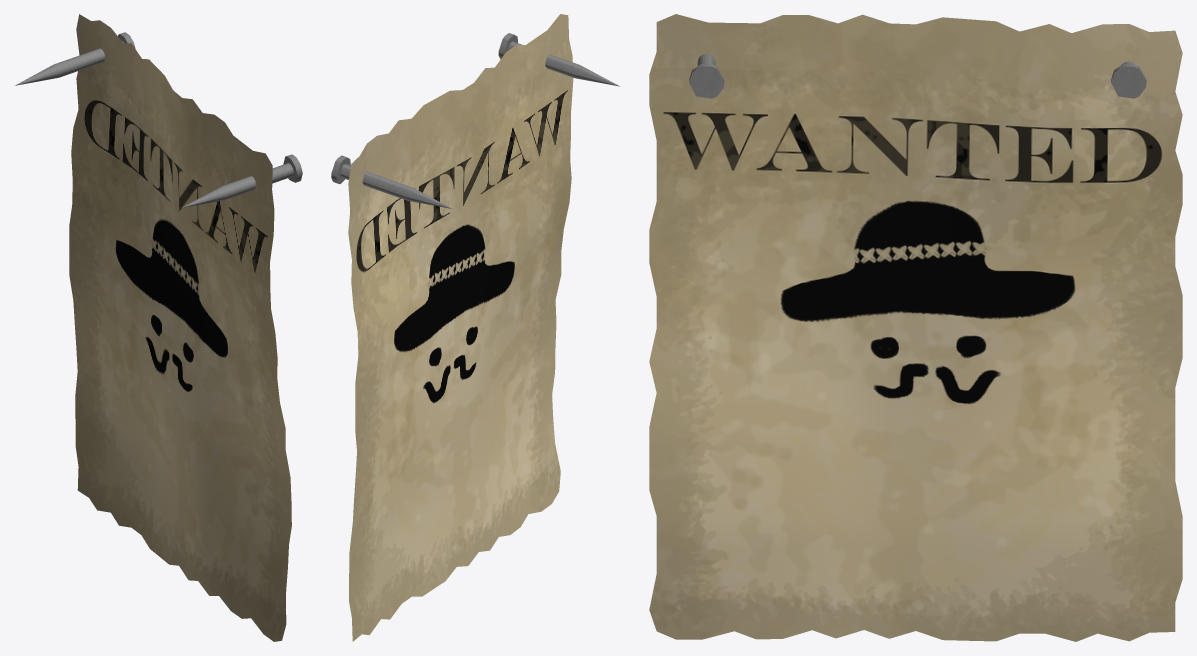
Rendered from wanted-poster.glb.
The picture shows the model from 3 angles, left to right: view 1: azimuth 30°, elevation 25°; view 2: azimuth 150°, elevation 25°; view 3: azimuth 270°, elevation 25°; orthographic projection. The views are drawn at different scales.
Visible parts, largest first — view 1: pCylinder3; view 2: pCylinder3; view 3: pCylinder3.
Boxes of the visible parts, bbox=[...] form: pCylinder3: bbox=[15, 14, 302, 641]; pCylinder3: bbox=[331, 14, 619, 641]; pCylinder3: bbox=[649, 14, 1182, 641].
Bounding box in the file's own units: 3.74 × 15.13 × 11.78.
1 material, 1 textured.
